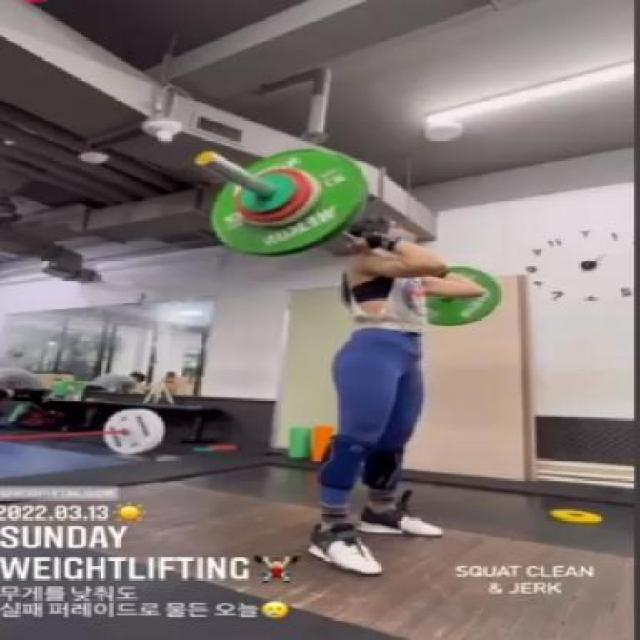Barbell: (192, 148, 222, 170)
